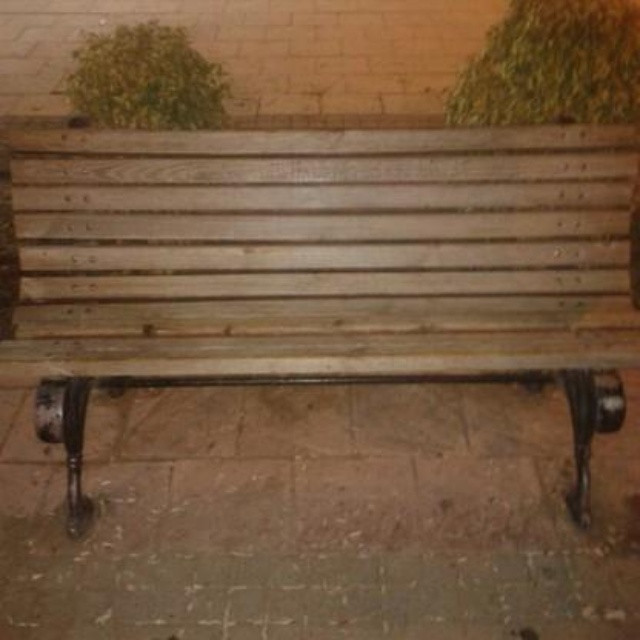obstacle: (9, 118, 631, 508)
